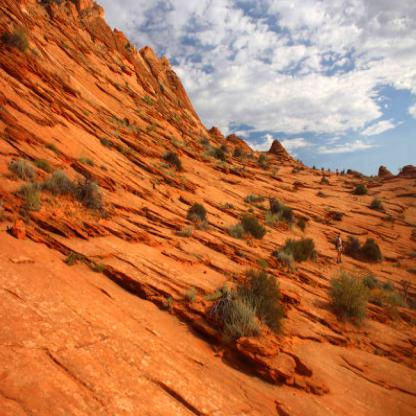Sedimentary_Sandstone: (1, 246, 135, 415), (0, 3, 102, 93), (1, 106, 134, 152), (133, 134, 182, 191), (363, 161, 415, 207), (138, 45, 171, 89), (263, 141, 292, 161)
